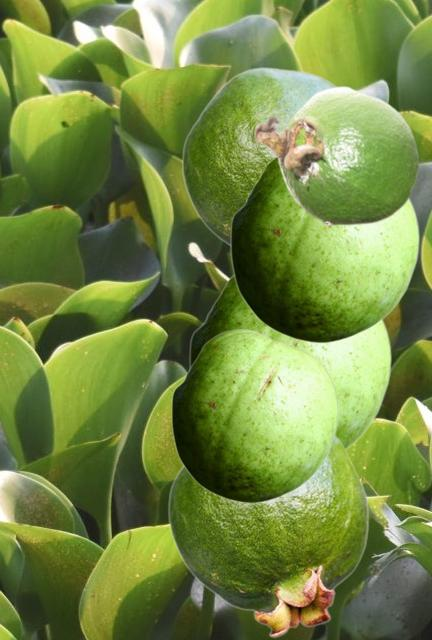guava: (167, 434, 368, 637), (189, 275, 390, 449), (230, 157, 418, 342), (171, 329, 337, 502), (181, 67, 336, 246), (253, 85, 419, 225)
